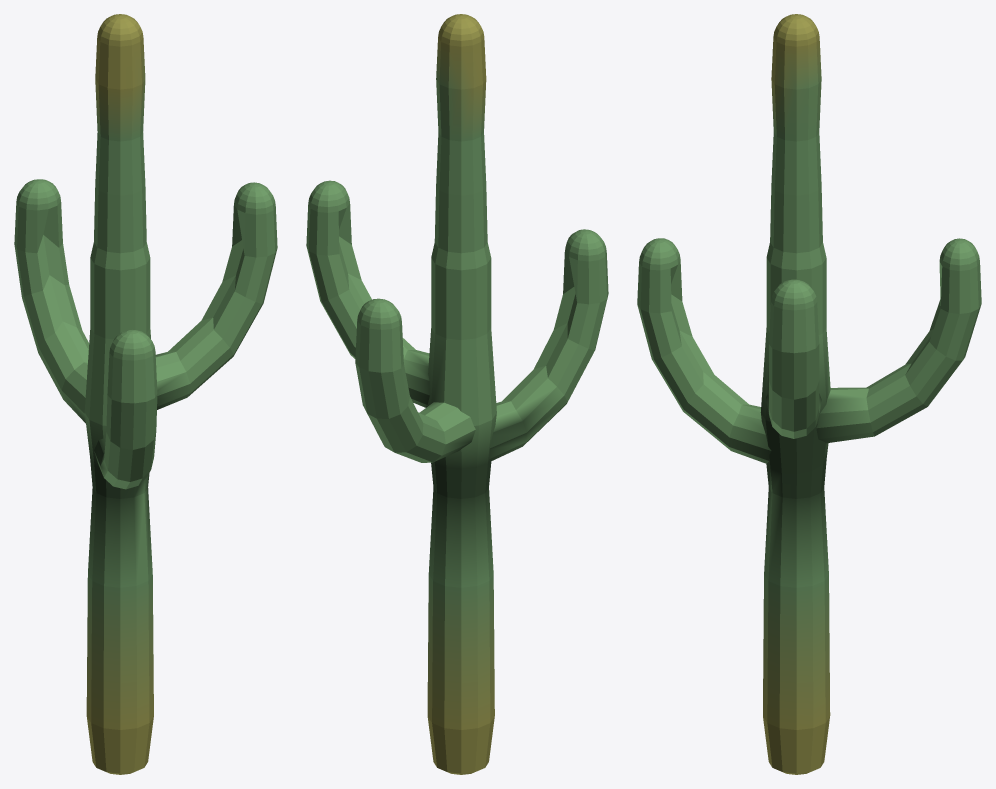
Rendered from cactus.glb.
3 renders of one model, left to right at view 1: azimuth 30°, elevation 25°; view 2: azimuth 150°, elevation 25°; view 3: azimuth 270°, elevation 25°, orthographic.
Parts seen in each view (by area): view 1: Sphere; view 2: Sphere; view 3: Sphere.
Part boxes in pixels (x1=…): Sphere: x1=14, y1=14, x2=277, y2=774; Sphere: x1=306, y1=14, x2=608, y2=774; Sphere: x1=637, y1=14, x2=981, y2=774.
Bounding box in the file's own units: 0.7167 × 2.24 × 0.9312.
